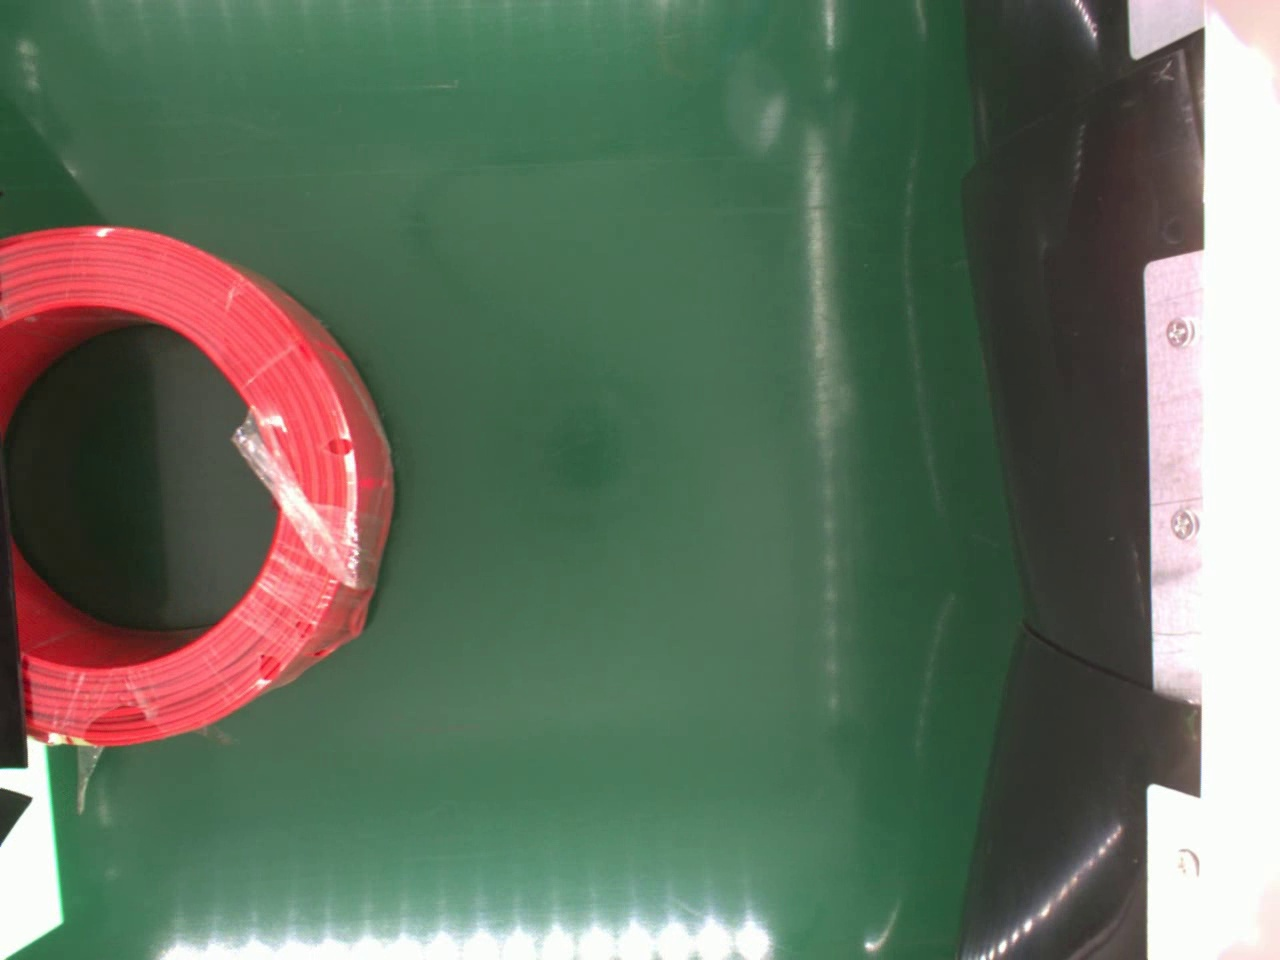red: (0, 219, 392, 750)
